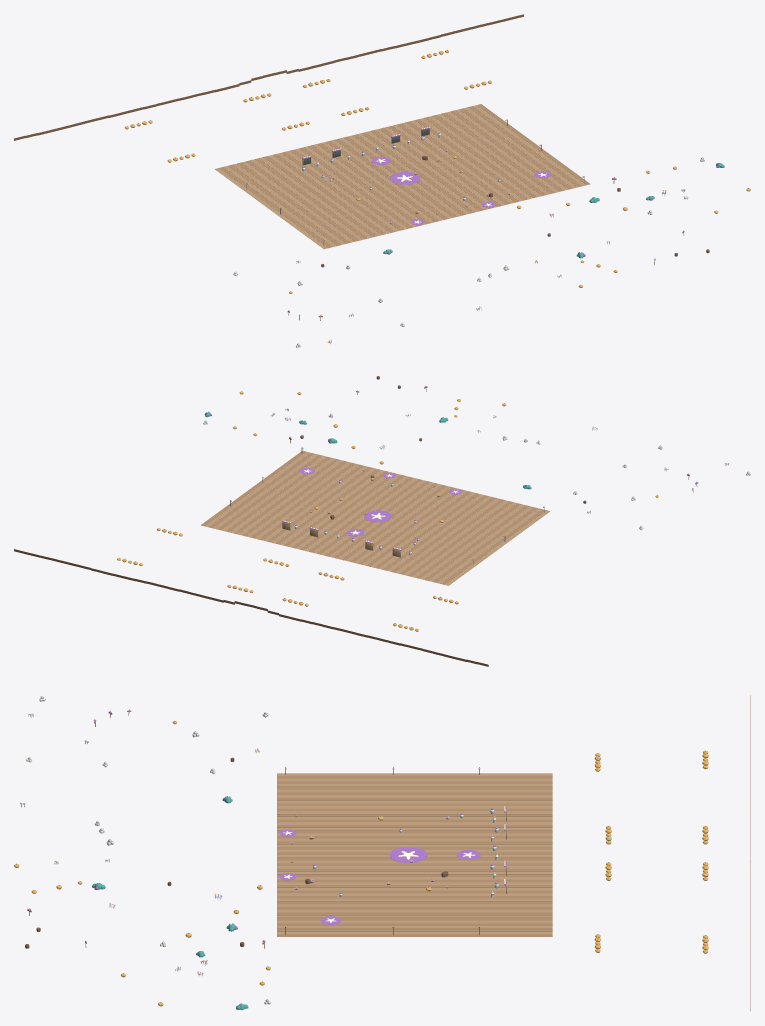
File: HauntedBakery_Decoration.fbx
The picture shows the model from 3 angles, top to bottom: view 1: azimuth 30°, elevation 25°; view 2: azimuth 150°, elevation 25°; view 3: azimuth 270°, elevation 25°; orthographic projection. The views are drawn at different scales.
Visible parts, largest first — view 1: HAU_Bakery_FloorPlanks; view 2: HAU_Bakery_FloorPlanks; view 3: HAU_Bakery_FloorPlanks.
Boxes of the visible parts, box(x1,y1,x2,y2) form: HAU_Bakery_FloorPlanks: box(215, 104, 590, 249); HAU_Bakery_FloorPlanks: box(201, 450, 550, 585); HAU_Bakery_FloorPlanks: box(277, 773, 552, 936).
Bounding box in the file's own units: 344 × 5.68 × 342.
